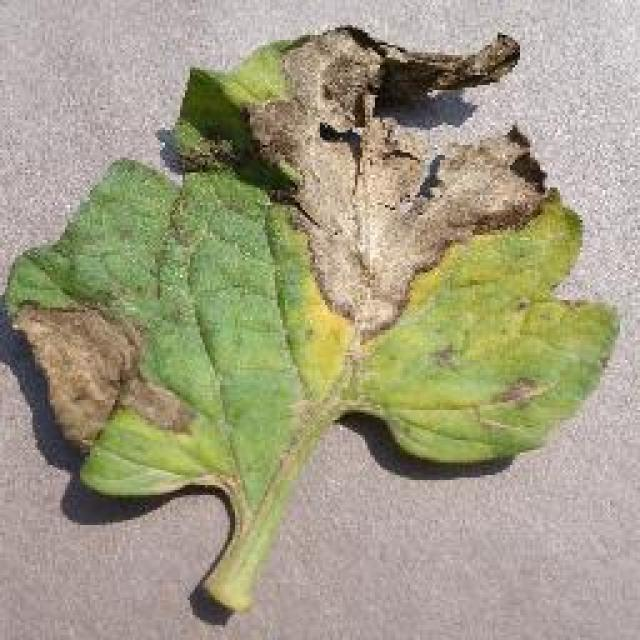Tomato_Late_Blight: (257, 17, 624, 331), (6, 287, 204, 506)
